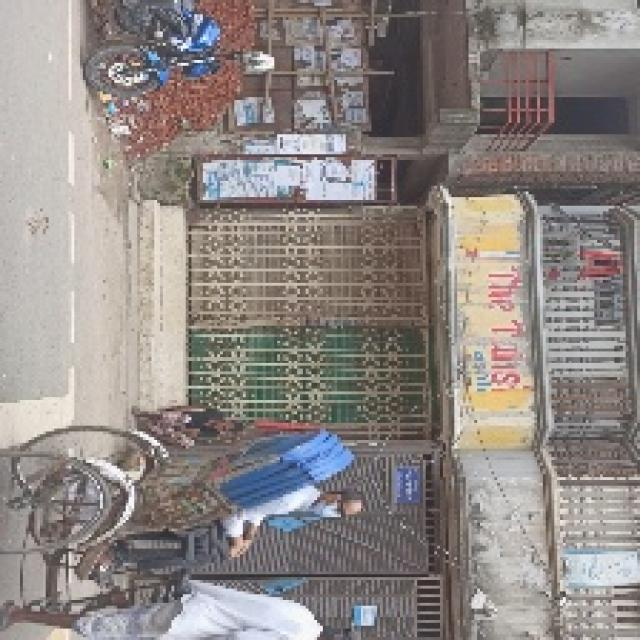bike: (83, 1, 253, 101)
rickshaw: (17, 412, 378, 628)
